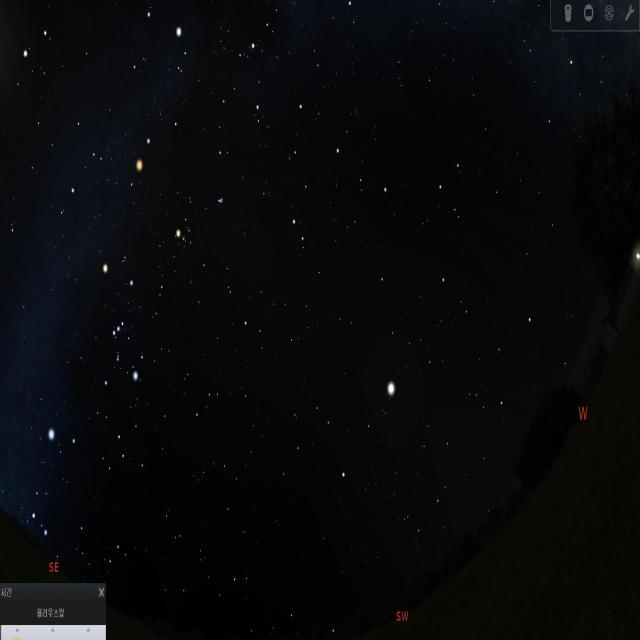canis_major: (26, 416, 74, 542)
gemini: (22, 22, 116, 179)
orion: (94, 260, 152, 403)
pleiades: (212, 192, 226, 214)
taurus: (172, 162, 236, 272)
